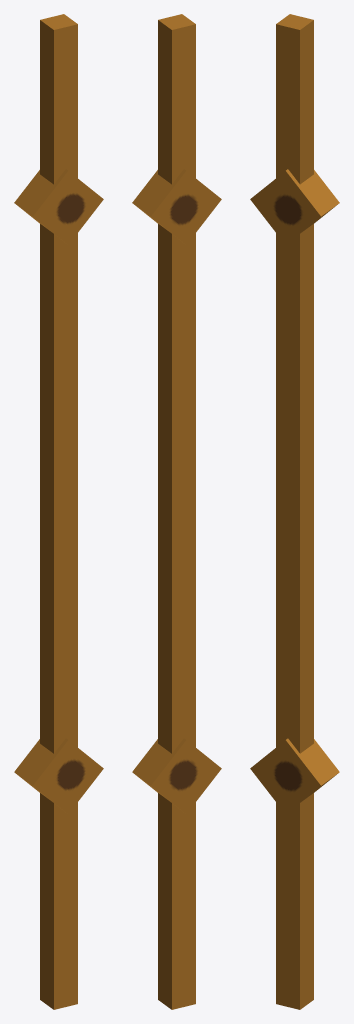
File: Mesh_Wpn_Aang.fbx
The picture shows the model from 3 angles, left to right: view 1: azimuth 30°, elevation 25°; view 2: azimuth 210°, elevation 25°; view 3: azimuth 330°, elevation 25°; orthographic projection.
Visible parts, largest first — view 1: Mesh_Wpn_Anng_Body; view 2: Mesh_Wpn_Anng_Body; view 3: Mesh_Wpn_Anng_Body.
Part boxes in pixels (x1,y1,x2,y2): Mesh_Wpn_Anng_Body: (14, 14, 103, 1009); Mesh_Wpn_Anng_Body: (132, 14, 221, 1009); Mesh_Wpn_Anng_Body: (250, 14, 339, 1009).
Size of the model in its own units: 37.4 by 492 by 17.08.
Materials: 1 (1 with a texture image).
